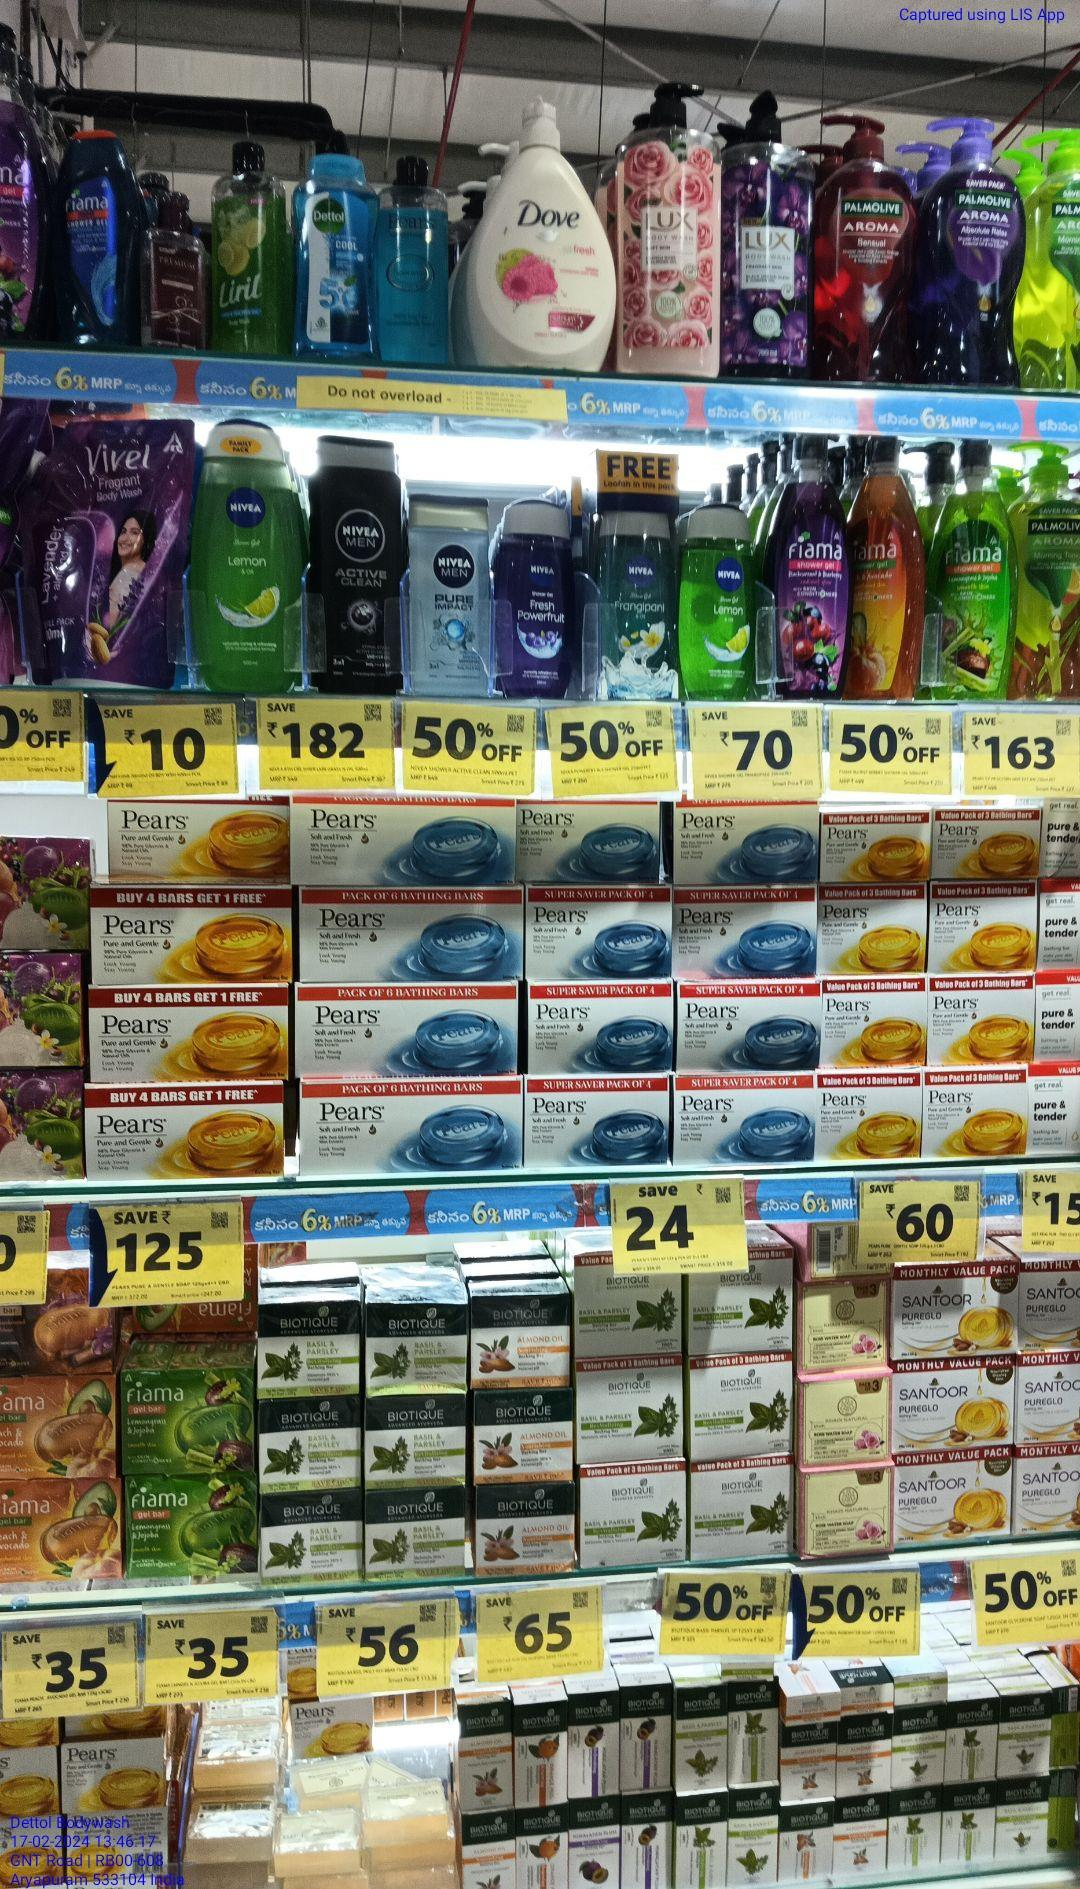Dettol_Bodywash_Cool: (295, 152, 370, 359)
Liril_Lime_and_Tea_Tree_Oil_Body_Wash_250ML: (213, 141, 282, 353)
Nivea_Shower_Gel_Fresh_Powerfruit_250ML: (496, 496, 578, 697)
Nivea_Shower_Gel_Lemon_and_Oil_250ML: (192, 420, 302, 695), (681, 502, 755, 701)
Pears_Pure_Glycerin_and_Mint_Extracts_Body_Wash_250ML: (374, 156, 452, 362)
